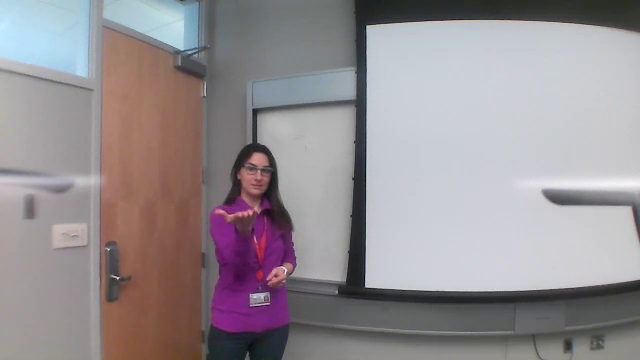land: (211, 203, 263, 234)
